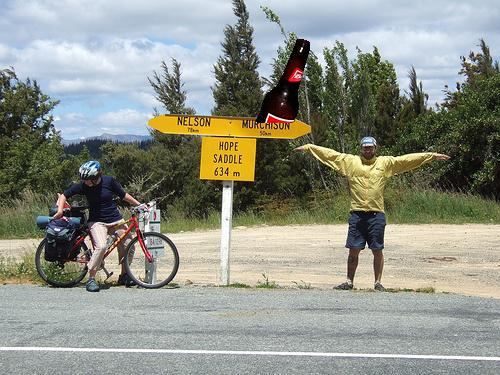tampered: (257, 40, 310, 123)
